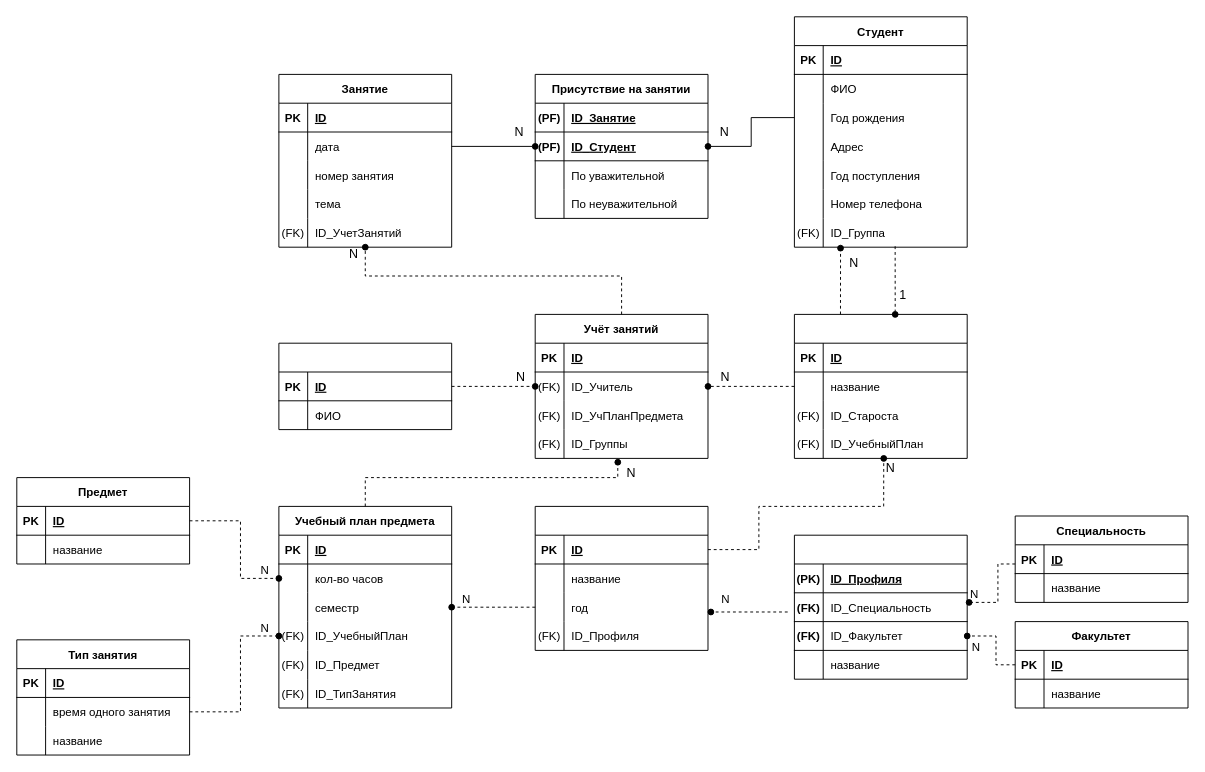
Image size: 1205x772. Some labels were removed from this diagram. The shapes that lost their labels are listed below. From the top down, each one's box as (x1, y1, x2, y2) in pixels, then its label:
(278, 342, 452, 430): Учитель
(793, 313, 967, 458): Группа
(534, 505, 708, 650): Учебный план
(793, 534, 967, 679): Профиль
